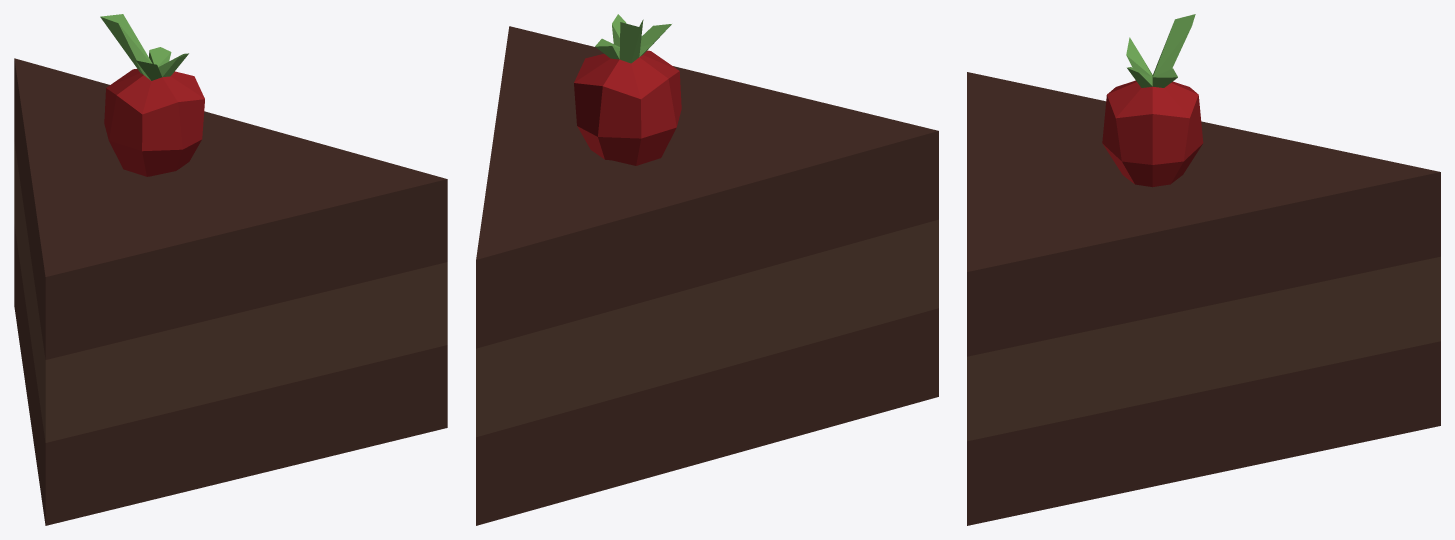
File: cake.fbx
The picture shows the model from 3 angles, left to right: view 1: azimuth 30°, elevation 25°; view 2: azimuth 150°, elevation 25°; view 3: azimuth 270°, elevation 25°; orthographic projection. The views are drawn at different scales.
Visible parts, largest first — view 1: cake; view 2: cake; view 3: cake.
Boxes of the visible parts, <box> form: cake: <box>14,14,447,525</box>; cake: <box>476,14,938,525</box>; cake: <box>967,14,1440,525</box>.
Bounding box in the file's own units: 0.44 × 0.4045 × 0.44.
1 material, 1 textured.
